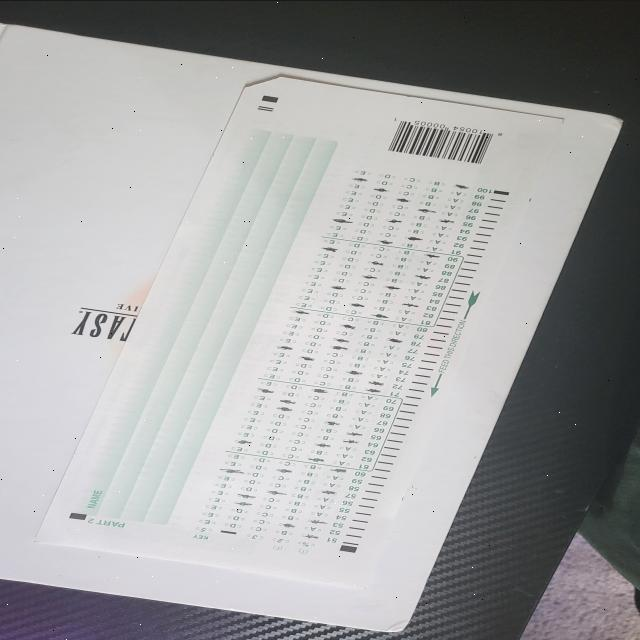scantron_back: (34, 76, 564, 588)
